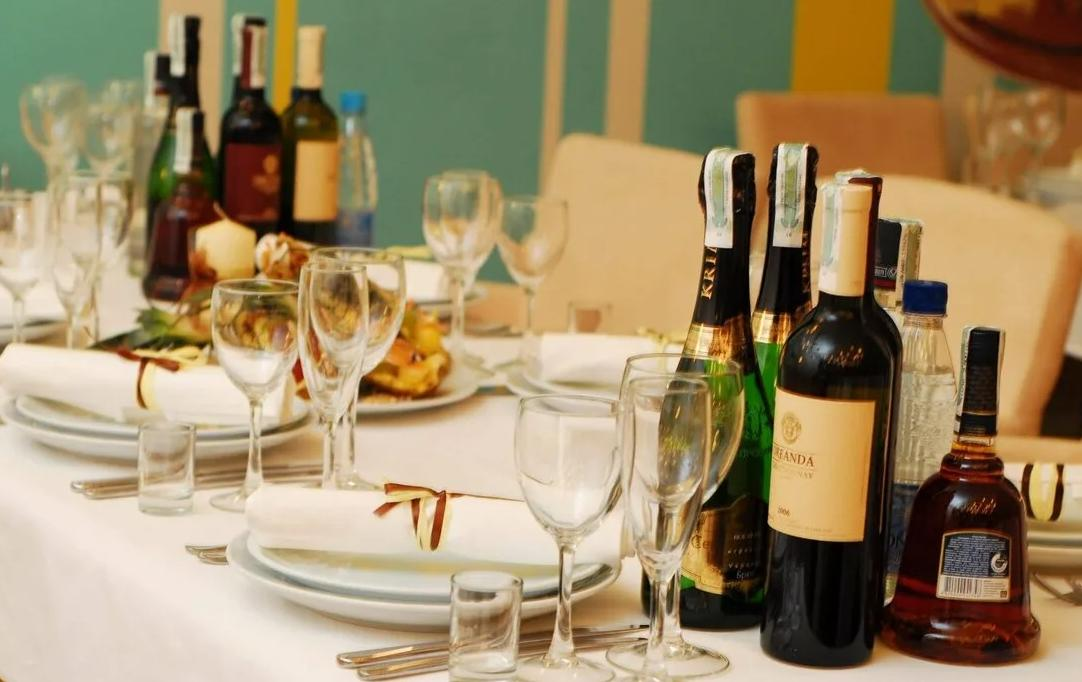wine bottle: (758, 182, 894, 670), (640, 146, 772, 631), (749, 139, 821, 409), (217, 16, 282, 280), (277, 24, 340, 282)
wine label: (770, 391, 872, 542), (674, 494, 765, 598), (228, 143, 278, 222), (293, 139, 340, 223)
